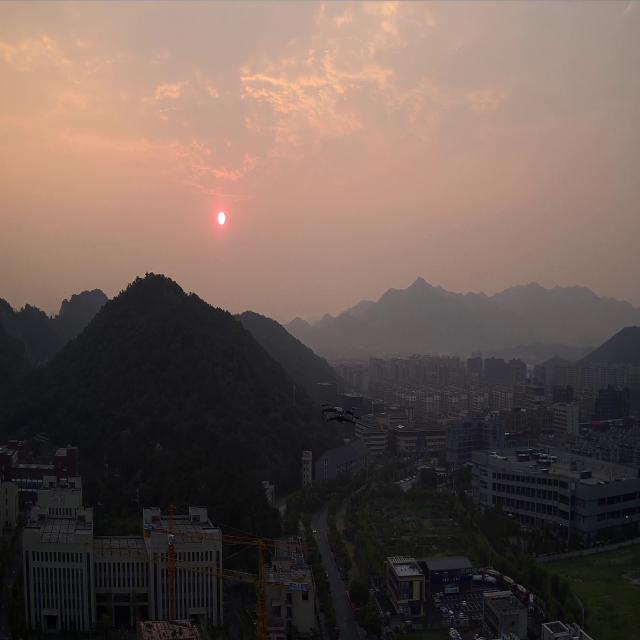UAV: (319, 402, 362, 425)
